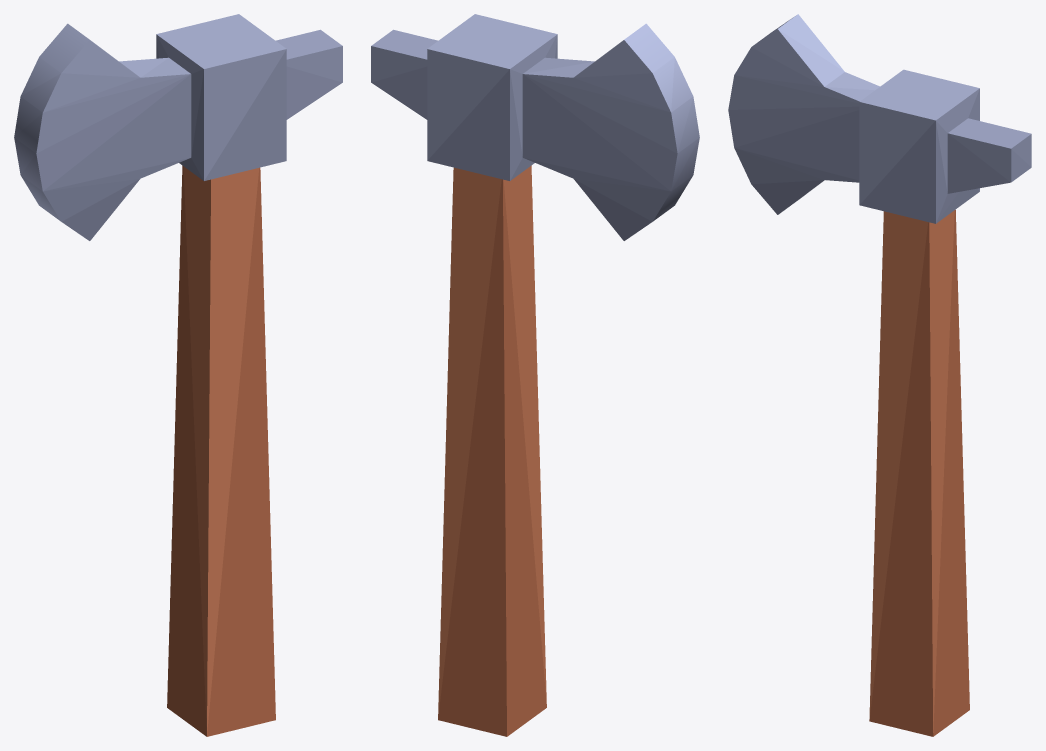
The model's file is tool-axe.glb.
3 views of the same model, side by side, from view 1: azimuth 30°, elevation 25°; view 2: azimuth 150°, elevation 25°; view 3: azimuth 330°, elevation 25° (orthographic). The views are drawn at different scales.
Parts seen in each view (by area): view 1: cc77450, cdb845d, c979ebe, ca4acce, caeb6da, c9ea5c6, cb3bce1, c8c93b0, c8389a5, ca9b1d4, cb7c0e6, c8f96b4 (+1 smaller); view 2: cc77450, cdb845d, c979ebe, ca4acce, caeb6da, c9ea5c6, cb3bce1, c8c93b0, c8389a5, ca9b1d4, cb7c0e6, c8f96b4 (+1 smaller); view 3: cc77450, cdb845d, ca4acce, c979ebe, caeb6da, c9ea5c6, cb3bce1, c8c93b0, c8389a5, cb7c0e6, ca9b1d4, c8f96b4 (+1 smaller).
Boxes of the visible parts, <box> form: cc77450: <box>167,165,275,736</box>; cdb845d: <box>183,166,259,734</box>; c979ebe: <box>14,36,286,191</box>; ca4acce: <box>14,29,342,180</box>; caeb6da: <box>21,14,286,112</box>; c9ea5c6: <box>36,66,342,190</box>; cb3bce1: <box>21,40,139,95</box>; c8c93b0: <box>21,160,203,221</box>; c8389a5: <box>61,179,139,240</box>; ca9b1d4: <box>44,58,190,112</box>; cb7c0e6: <box>39,23,89,72</box>; c8f96b4: <box>44,158,189,191</box>; cc77450: <box>438,179,546,736</box>; cdb845d: <box>438,165,546,718</box>; c979ebe: <box>427,36,699,191</box>; ca4acce: <box>371,29,692,160</box>; caeb6da: <box>427,14,693,112</box>; c9ea5c6: <box>371,66,677,190</box>; cb3bce1: <box>574,40,674,112</box>; c8c93b0: <box>510,158,692,221</box>; c8389a5: <box>574,179,652,240</box>; ca9b1d4: <box>523,57,669,112</box>; cb7c0e6: <box>624,23,674,72</box>; c8f96b4: <box>524,158,669,191</box>; cc77450: <box>869,210,969,736</box>; cdb845d: <box>869,210,954,732</box>; ca4acce: <box>728,75,1031,204</box>; c979ebe: <box>734,110,979,223</box>; caeb6da: <box>734,47,979,132</box>; c9ea5c6: <box>728,106,1010,193</box>; cb3bce1: <box>751,29,844,86</box>; c8c93b0: <box>734,148,823,184</box>; c8389a5: <box>751,180,824,214</box>; cb7c0e6: <box>756,14,844,71</box>; ca9b1d4: <box>736,75,874,103</box>; c8f96b4: <box>736,148,859,182</box>.
Bounding box in the file's own units: 0.1145 × 0.256 × 0.0309.
